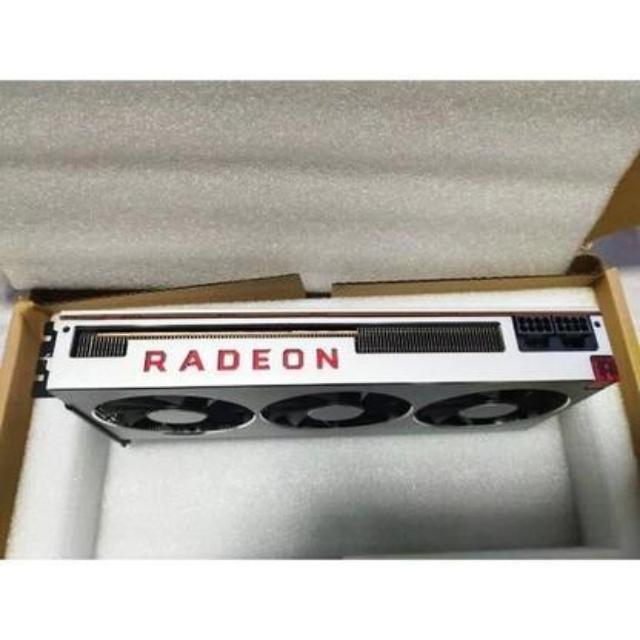GPU: (46, 292, 632, 446)
